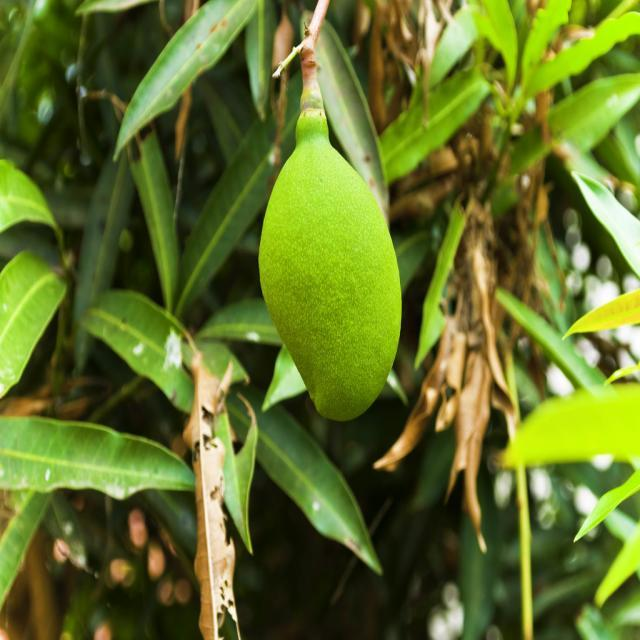Mango: (256, 109, 406, 428)
